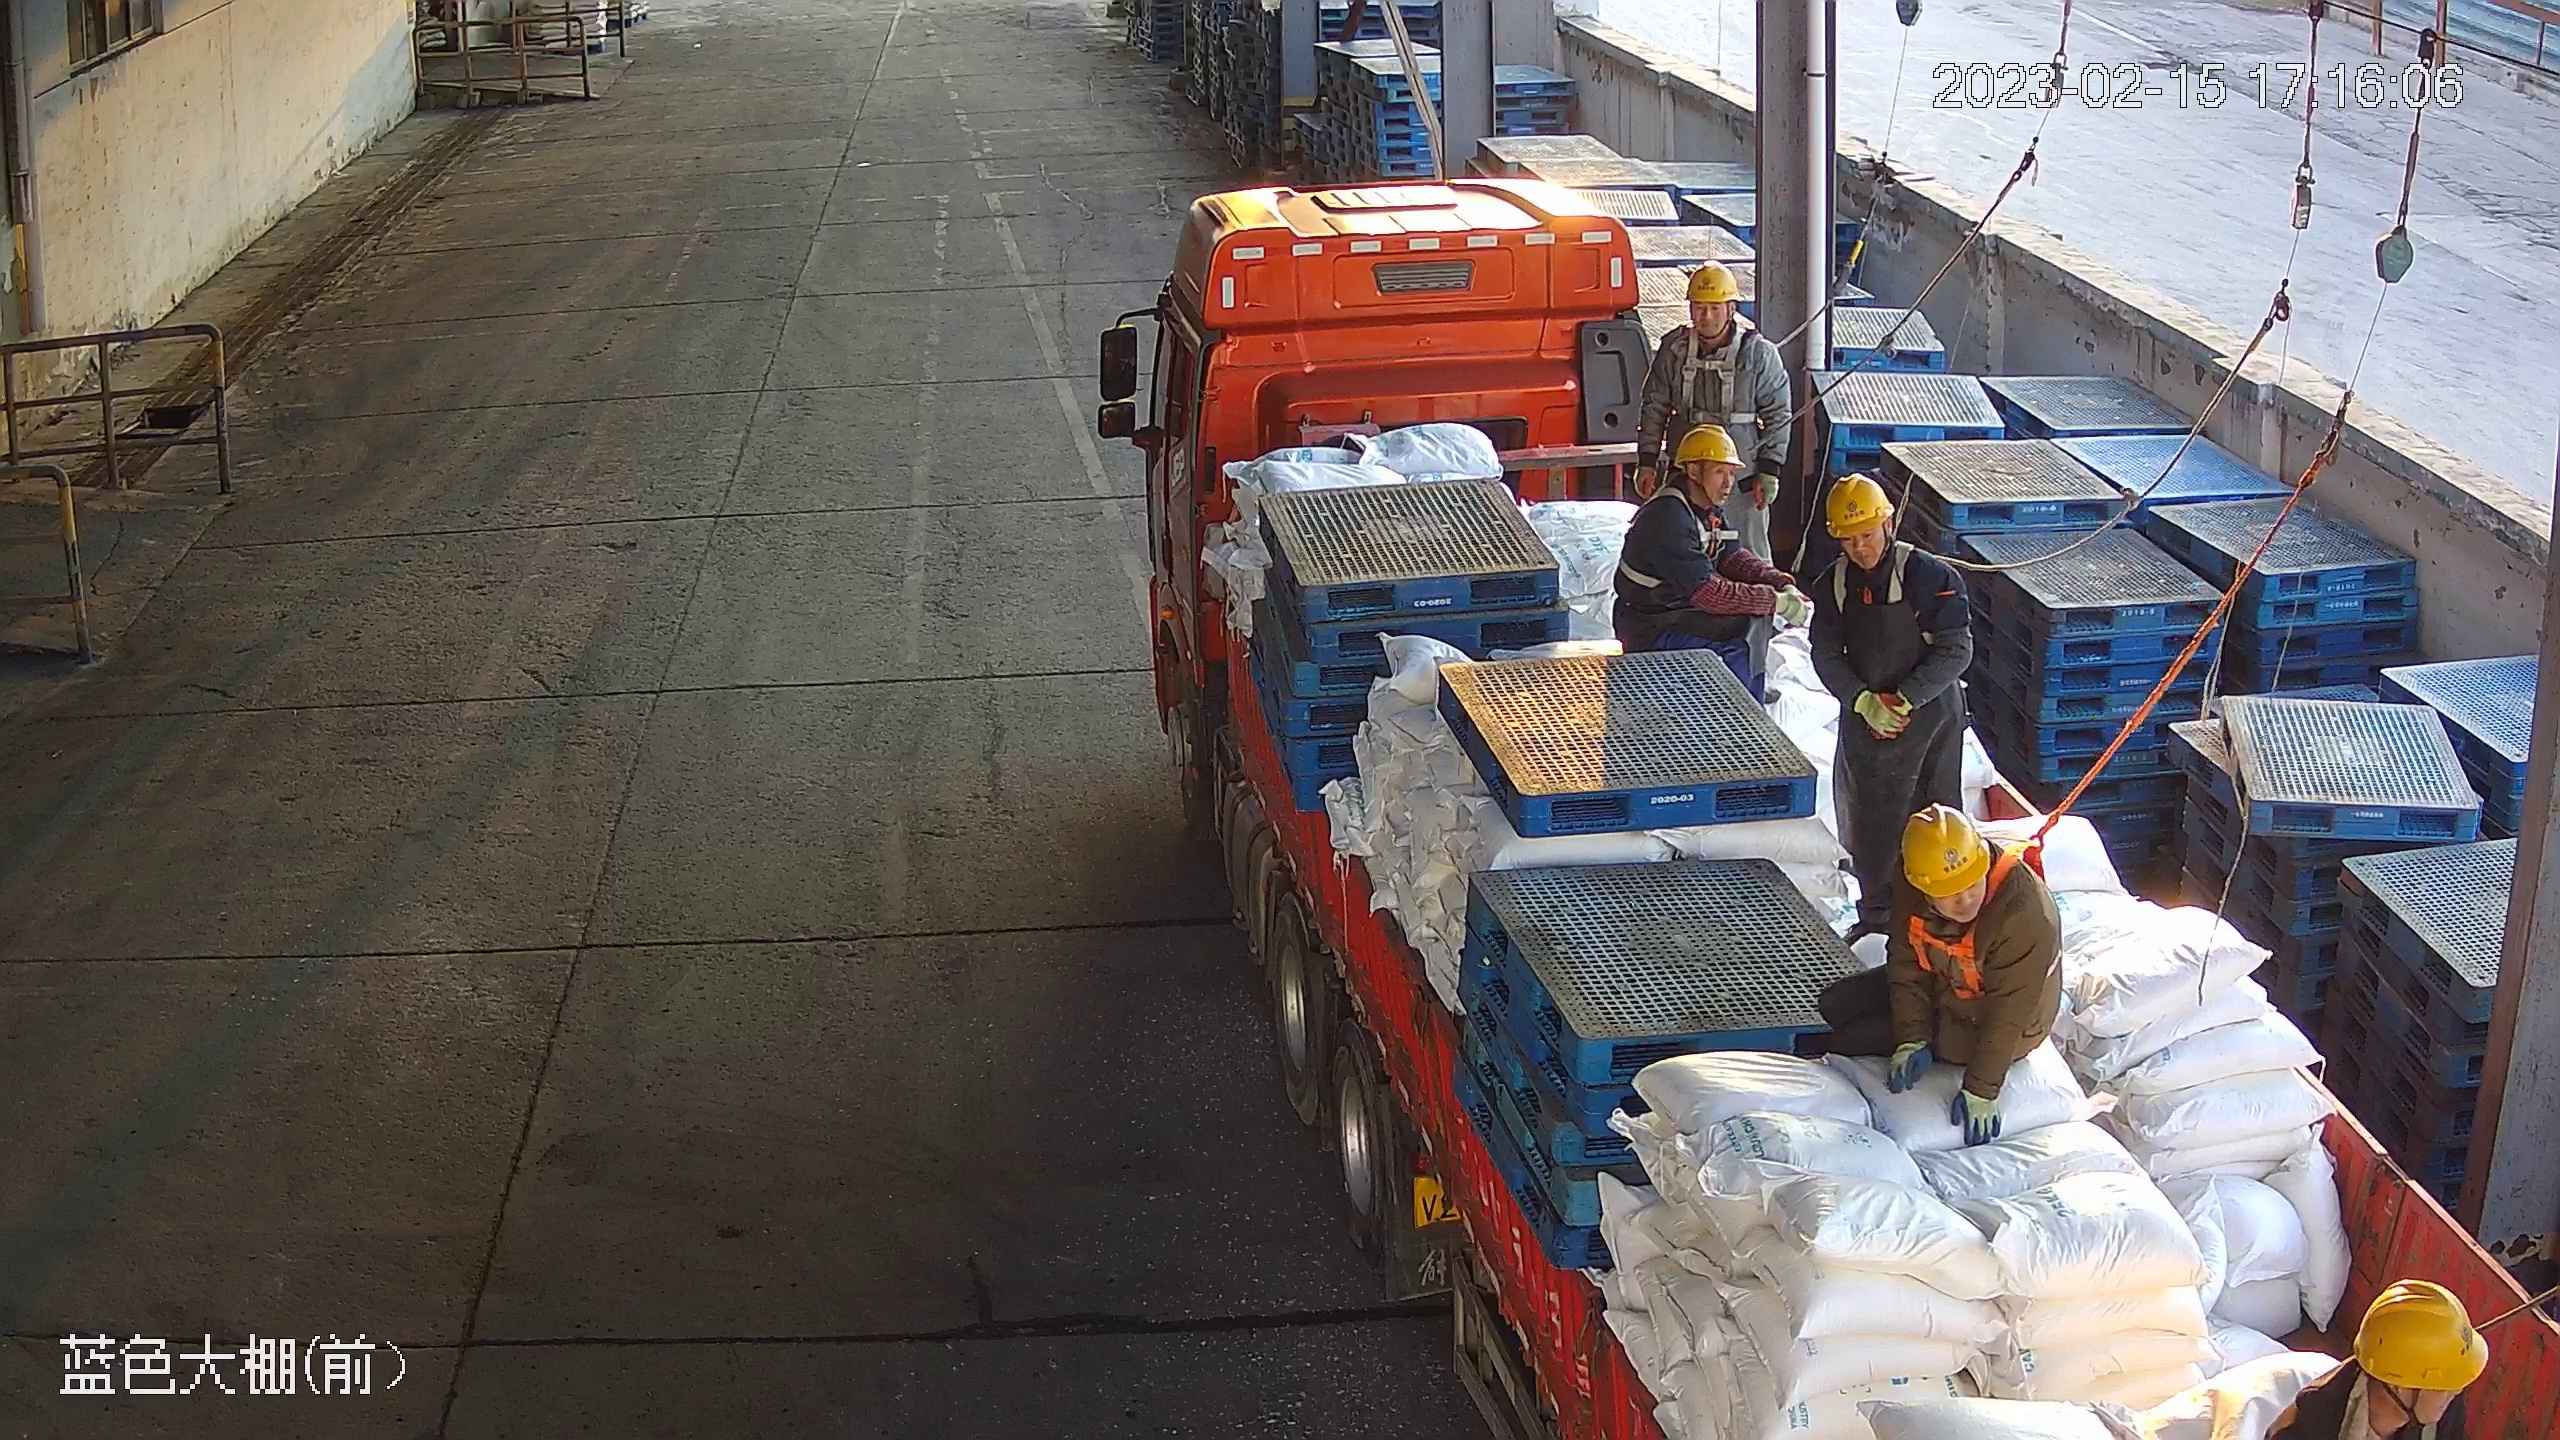belt: (1898, 845, 2035, 1012), (1612, 486, 1738, 584), (1825, 542, 1927, 614), (1673, 323, 1761, 407)
head: (1879, 801, 2066, 970), (1809, 479, 1972, 623), (1622, 427, 1749, 560), (1651, 266, 1790, 384)
helmet: (2351, 1268, 2498, 1392), (1899, 799, 2005, 892), (1819, 473, 1894, 531), (1666, 420, 1751, 468), (1686, 264, 1735, 310)
people: (1852, 794, 2064, 1140), (1810, 471, 1971, 829), (1618, 421, 1796, 679)
truck: (1086, 171, 2560, 1440)
